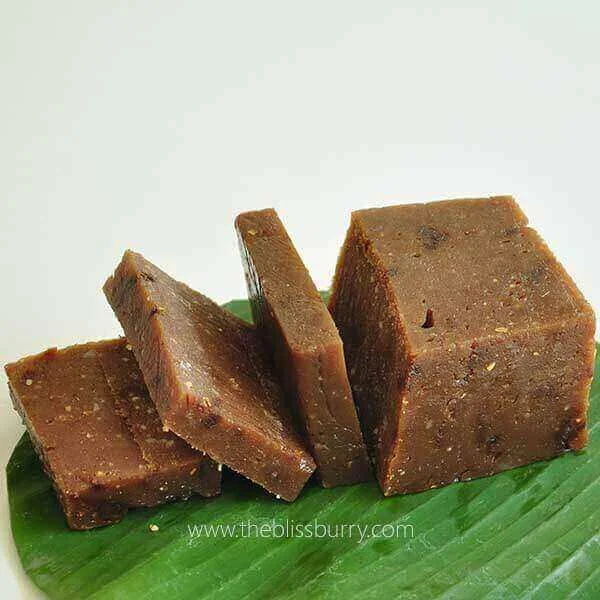dodol: (325, 193, 596, 499), (100, 250, 315, 504), (2, 334, 225, 530), (232, 207, 372, 489)
